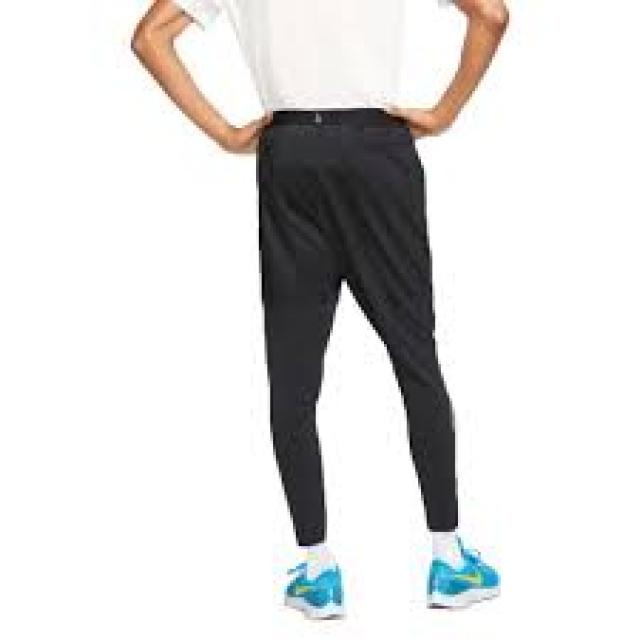pants: (252, 110, 463, 540)
